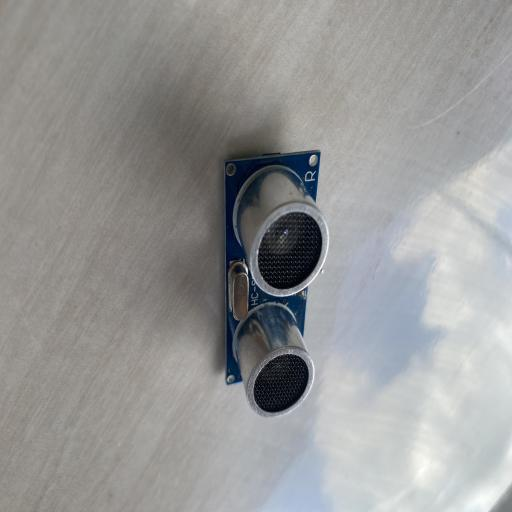Ultrasonic Sensor: (223, 149, 329, 418)
